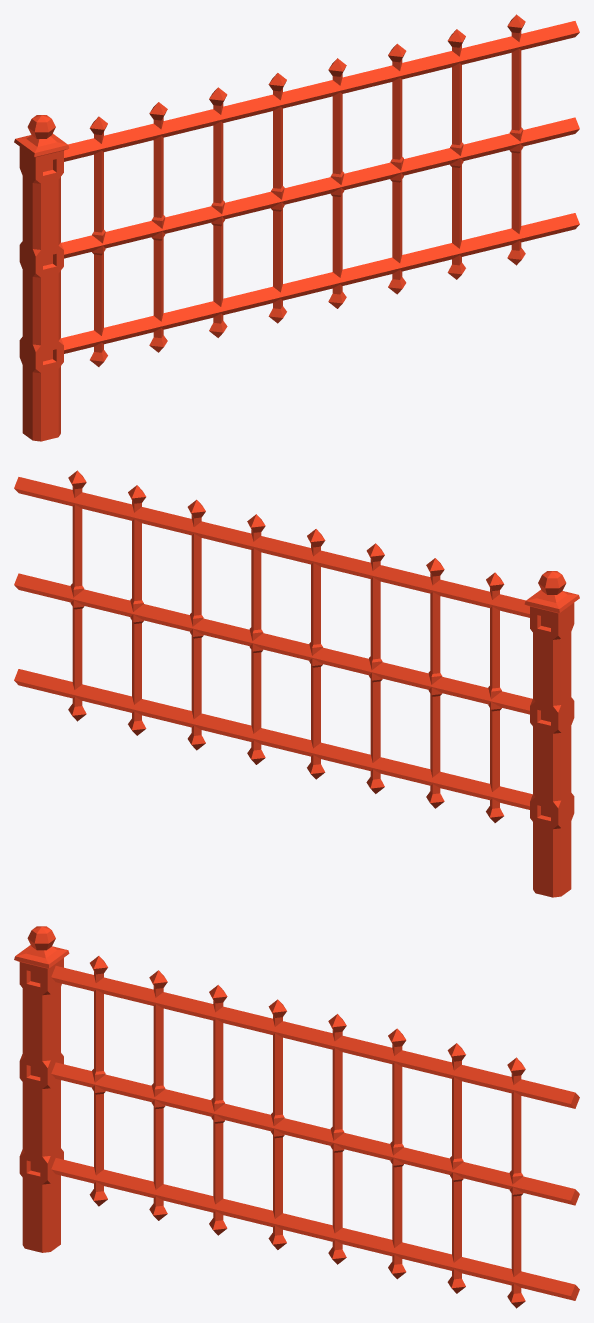
File: SM_Fence_Small_2m_City.fbx
3 views of the same model, one above another, from view 1: azimuth 30°, elevation 25°; view 2: azimuth 150°, elevation 25°; view 3: azimuth 330°, elevation 25° (orthographic).
Parts seen in each view (by area): view 1: SM_Fence_Small_2m_City; view 2: SM_Fence_Small_2m_City; view 3: SM_Fence_Small_2m_City.
Part boxes in pixels (left/top/right/bottom): SM_Fence_Small_2m_City: left=14, top=14, right=579, bottom=441; SM_Fence_Small_2m_City: left=14, top=470, right=579, bottom=897; SM_Fence_Small_2m_City: left=14, top=926, right=579, bottom=1308.
Size of the model in its own units: 2.07 by 1.14 by 0.1319.
